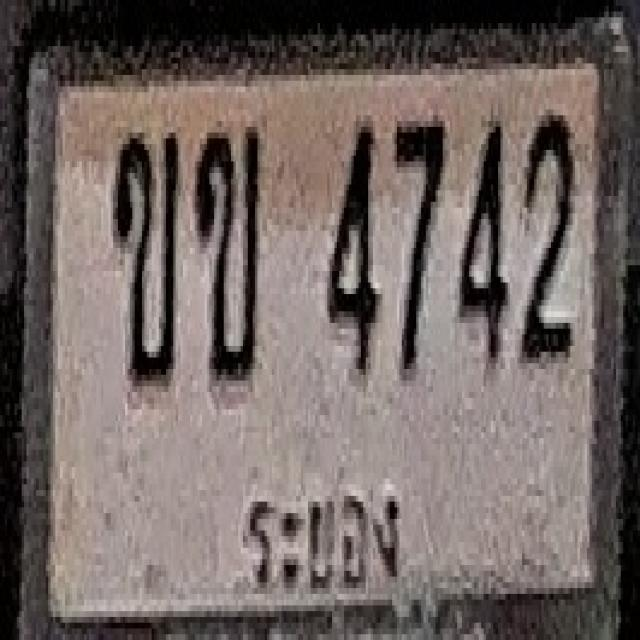2: (520, 112, 572, 360)
4: (327, 121, 378, 375), (458, 118, 506, 366)
7: (394, 118, 446, 372)
A02: (113, 127, 178, 386), (195, 124, 260, 383)
RYG: (236, 471, 425, 622)
